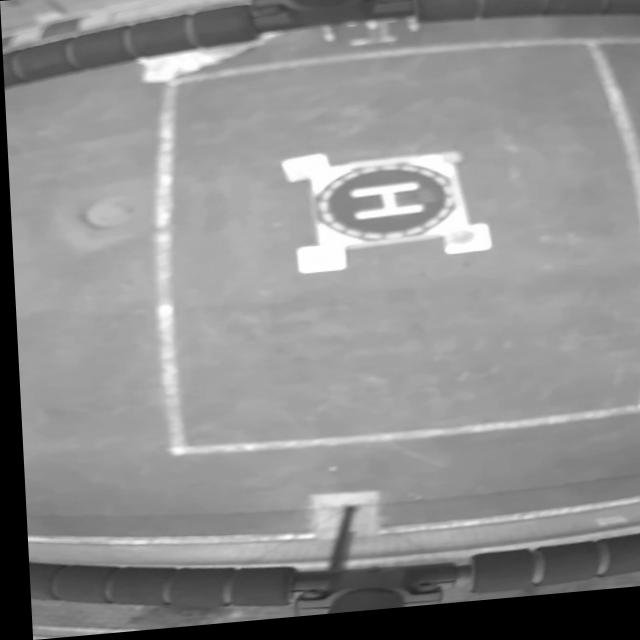Helipad: (349, 188, 423, 225)
